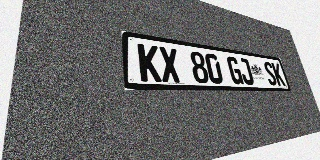0: (204, 53, 224, 84)
8: (189, 51, 210, 83)
G: (226, 56, 244, 84)
J: (237, 58, 255, 85)
K: (137, 43, 162, 82), (271, 62, 286, 86)
S: (262, 61, 278, 86)
X: (158, 46, 181, 83)
